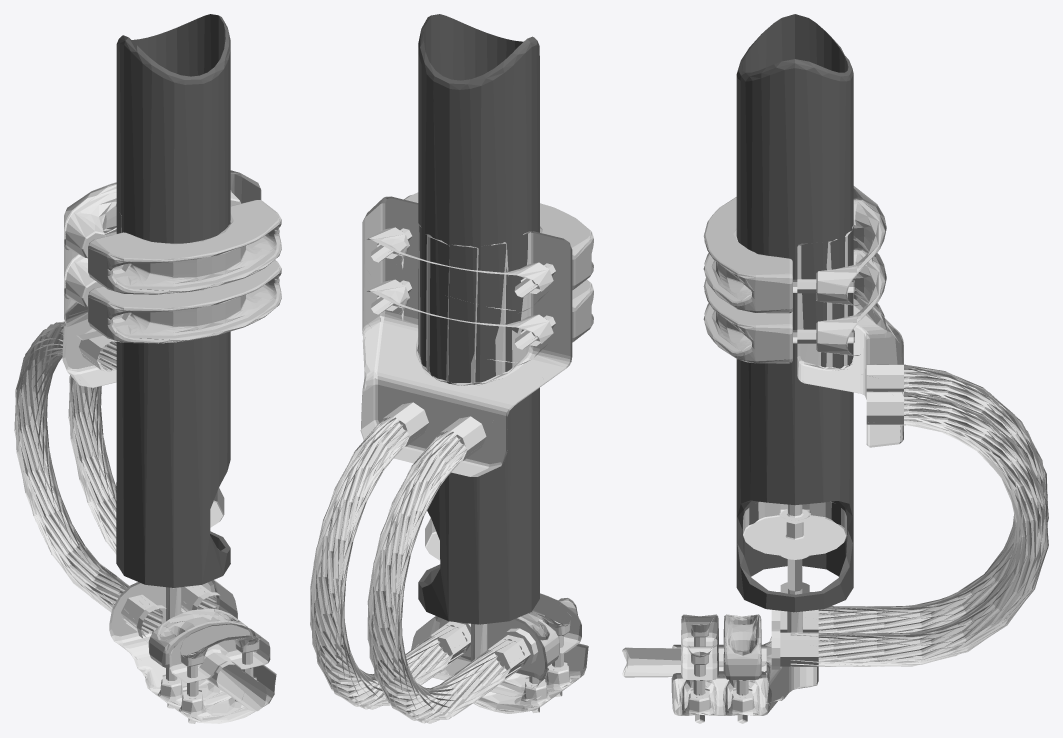
The model's file is probe444.gltf.
The picture shows the model from 3 angles, left to right: view 1: azimuth 30°, elevation 25°; view 2: azimuth 150°, elevation 25°; view 3: azimuth 270°, elevation 25°; orthographic projection. The views are drawn at different scales.
Visible parts, largest first — view 1: Gt7Sj3Sa.001, Gt7Sj3Sa, Gt7Sj3Sa.003, Gt7Sj3Sa.004, Gt7Sj3Sa.006, Gt7Sj3Sa.002, Gt7Sj3Sa.008, Gt7Sj3Sa.007, Gt7Sj3Sa.009; view 2: Gt7Sj3Sa.001, Gt7Sj3Sa.002, Gt7Sj3Sa, Gt7Sj3Sa.006, Gt7Sj3Sa.003, Gt7Sj3Sa.008, Gt7Sj3Sa.004, Gt7Sj3Sa.007; view 3: Gt7Sj3Sa.001, Gt7Sj3Sa, Gt7Sj3Sa.002, Gt7Sj3Sa.006, Gt7Sj3Sa.003, Gt7Sj3Sa.004, Gt7Sj3Sa.005, Gt7Sj3Sa.007, Gt7Sj3Sa.008, Gt7Sj3Sa.009.
Boxes of the visible parts, left/top/right/bottom form: Gt7Sj3Sa.001: left=116, top=14, right=230, bottom=587; Gt7Sj3Sa: left=14, top=263, right=256, bottom=723; Gt7Sj3Sa.003: left=88, top=200, right=281, bottom=294; Gt7Sj3Sa.004: left=88, top=260, right=281, bottom=343; Gt7Sj3Sa.006: left=109, top=580, right=276, bottom=723; Gt7Sj3Sa.002: left=62, top=170, right=261, bottom=387; Gt7Sj3Sa.008: left=169, top=623, right=270, bottom=682; Gt7Sj3Sa.007: left=148, top=608, right=247, bottom=667; Gt7Sj3Sa.009: left=216, top=664, right=266, bottom=711; Gt7Sj3Sa.001: left=418, top=14, right=539, bottom=624; Gt7Sj3Sa.002: left=360, top=196, right=572, bottom=476; Gt7Sj3Sa: left=310, top=231, right=567, bottom=723; Gt7Sj3Sa.006: left=411, top=616, right=588, bottom=713; Gt7Sj3Sa.003: left=404, top=192, right=593, bottom=290; Gt7Sj3Sa.008: left=528, top=593, right=581, bottom=653; Gt7Sj3Sa.004: left=572, top=279, right=593, bottom=342; Gt7Sj3Sa.007: left=517, top=613, right=559, bottom=666; Gt7Sj3Sa.001: left=736, top=14, right=853, bottom=612; Gt7Sj3Sa: left=690, top=272, right=1048, bottom=723; Gt7Sj3Sa.002: left=797, top=186, right=903, bottom=447; Gt7Sj3Sa.006: left=671, top=592, right=818, bottom=715; Gt7Sj3Sa.003: left=703, top=197, right=792, bottom=313; Gt7Sj3Sa.004: left=703, top=278, right=792, bottom=363; Gt7Sj3Sa.005: left=743, top=501, right=847, bottom=557; Gt7Sj3Sa.007: left=723, top=614, right=761, bottom=679; Gt7Sj3Sa.008: left=681, top=614, right=718, bottom=679; Gt7Sj3Sa.009: left=622, top=647, right=765, bottom=677.
Bounding box in the file's own units: 0.4791 × 1.67 × 0.9617.
Materials: 4 (4 with a texture image).
